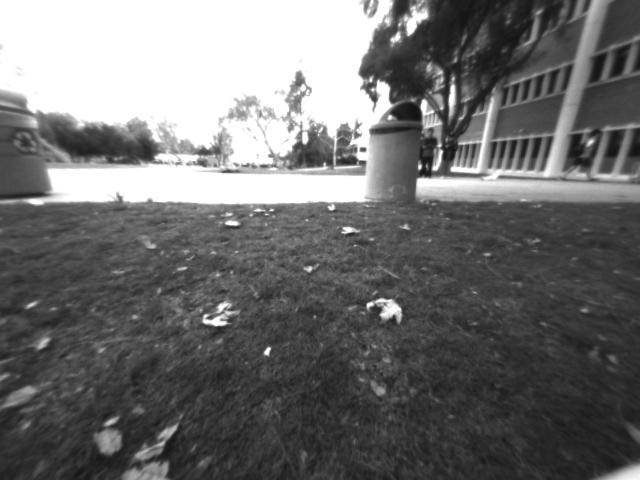trashcan: (357, 91, 431, 211)
